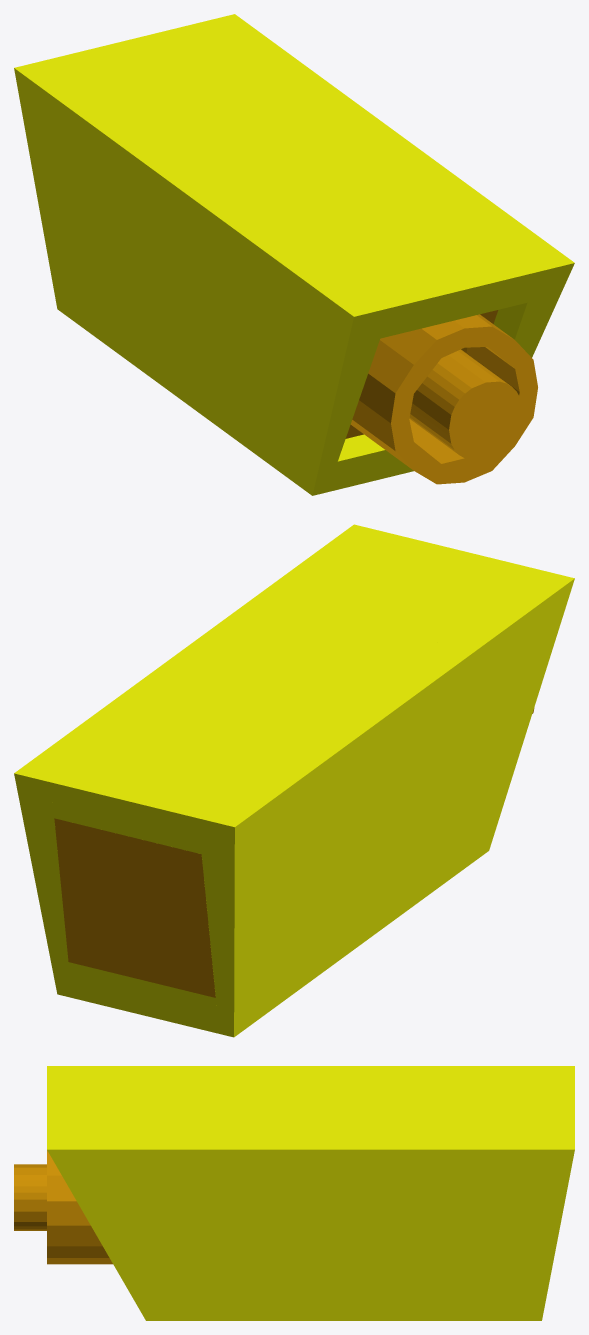
File: camera_head.FBX
3 renders of one model, top to bottom at view 1: azimuth 30°, elevation 25°; view 2: azimuth 150°, elevation 25°; view 3: azimuth 270°, elevation 25°, orthographic. The views are drawn at different scales.
Visible parts, largest first — view 1: Brush001; view 2: Brush001; view 3: Brush001.
Boxes of the visible parts, x1,y1,x2,y2 form: Brush001: (14,14,574,495); Brush001: (14,524,574,1037); Brush001: (14,1066,574,1320).
Size of the model in its own units: 6 by 6 by 17.
